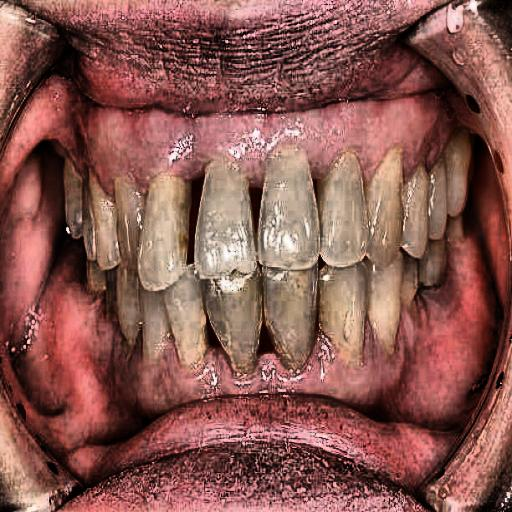Gingivitis: (55, 81, 474, 194), (71, 308, 458, 420)
